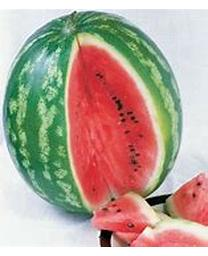watermelon: (4, 11, 185, 212)
